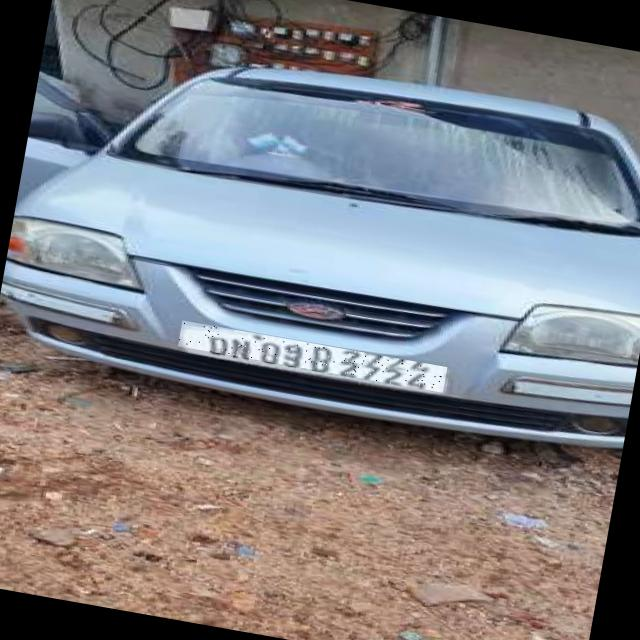Plate: (179, 321, 448, 393)
